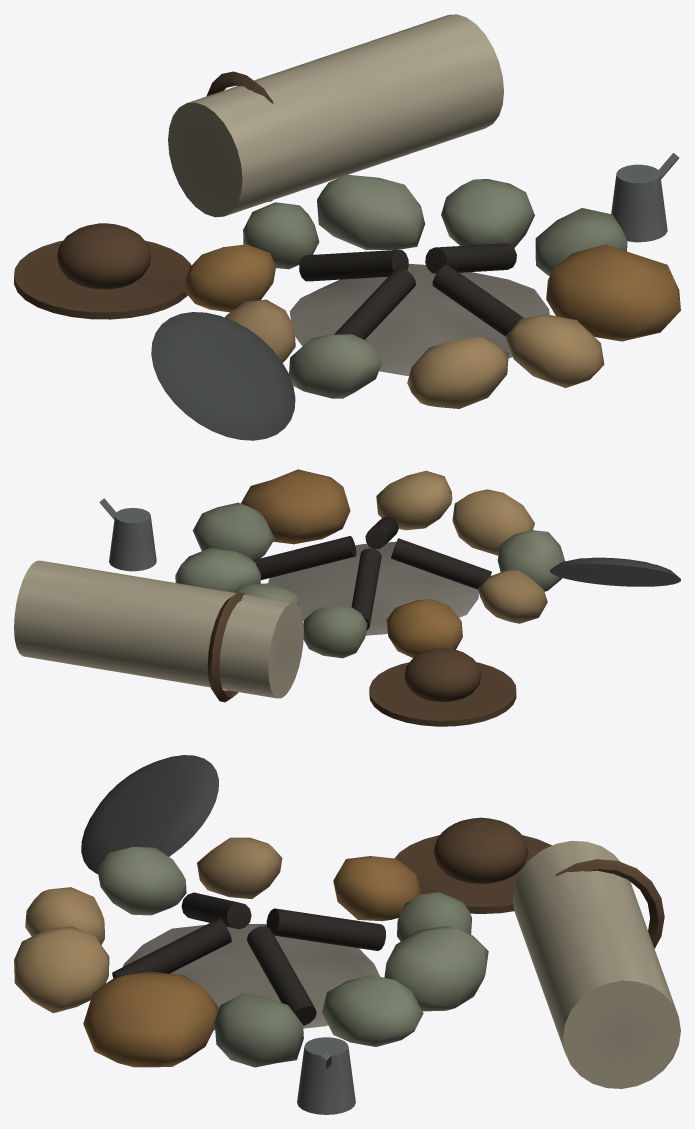
The model's file is fire_ring_b.glb.
3 views of the same model, one above another, from view 1: azimuth 30°, elevation 25°; view 2: azimuth 150°, elevation 25°; view 3: azimuth 270°, elevation 25° (orthographic). The views are drawn at different scales.
Visible parts, largest first — view 1: Surface; view 2: Surface; view 3: Surface.
Boxes of the visible parts, left/top/right/bottom form: Surface: left=14, top=14, right=680, bottom=440; Surface: left=14, top=469, right=680, bottom=726; Surface: left=14, top=755, right=680, bottom=1114.
Size of the model in its own units: 2.75 by 0.5654 by 2.59.
